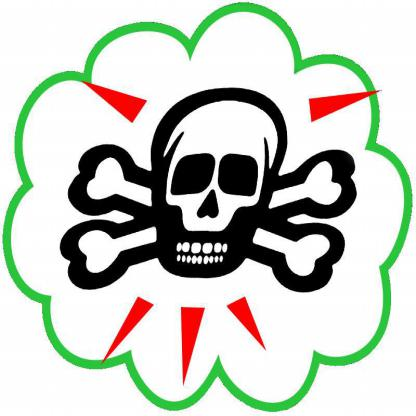skull: (58, 84, 360, 301)
